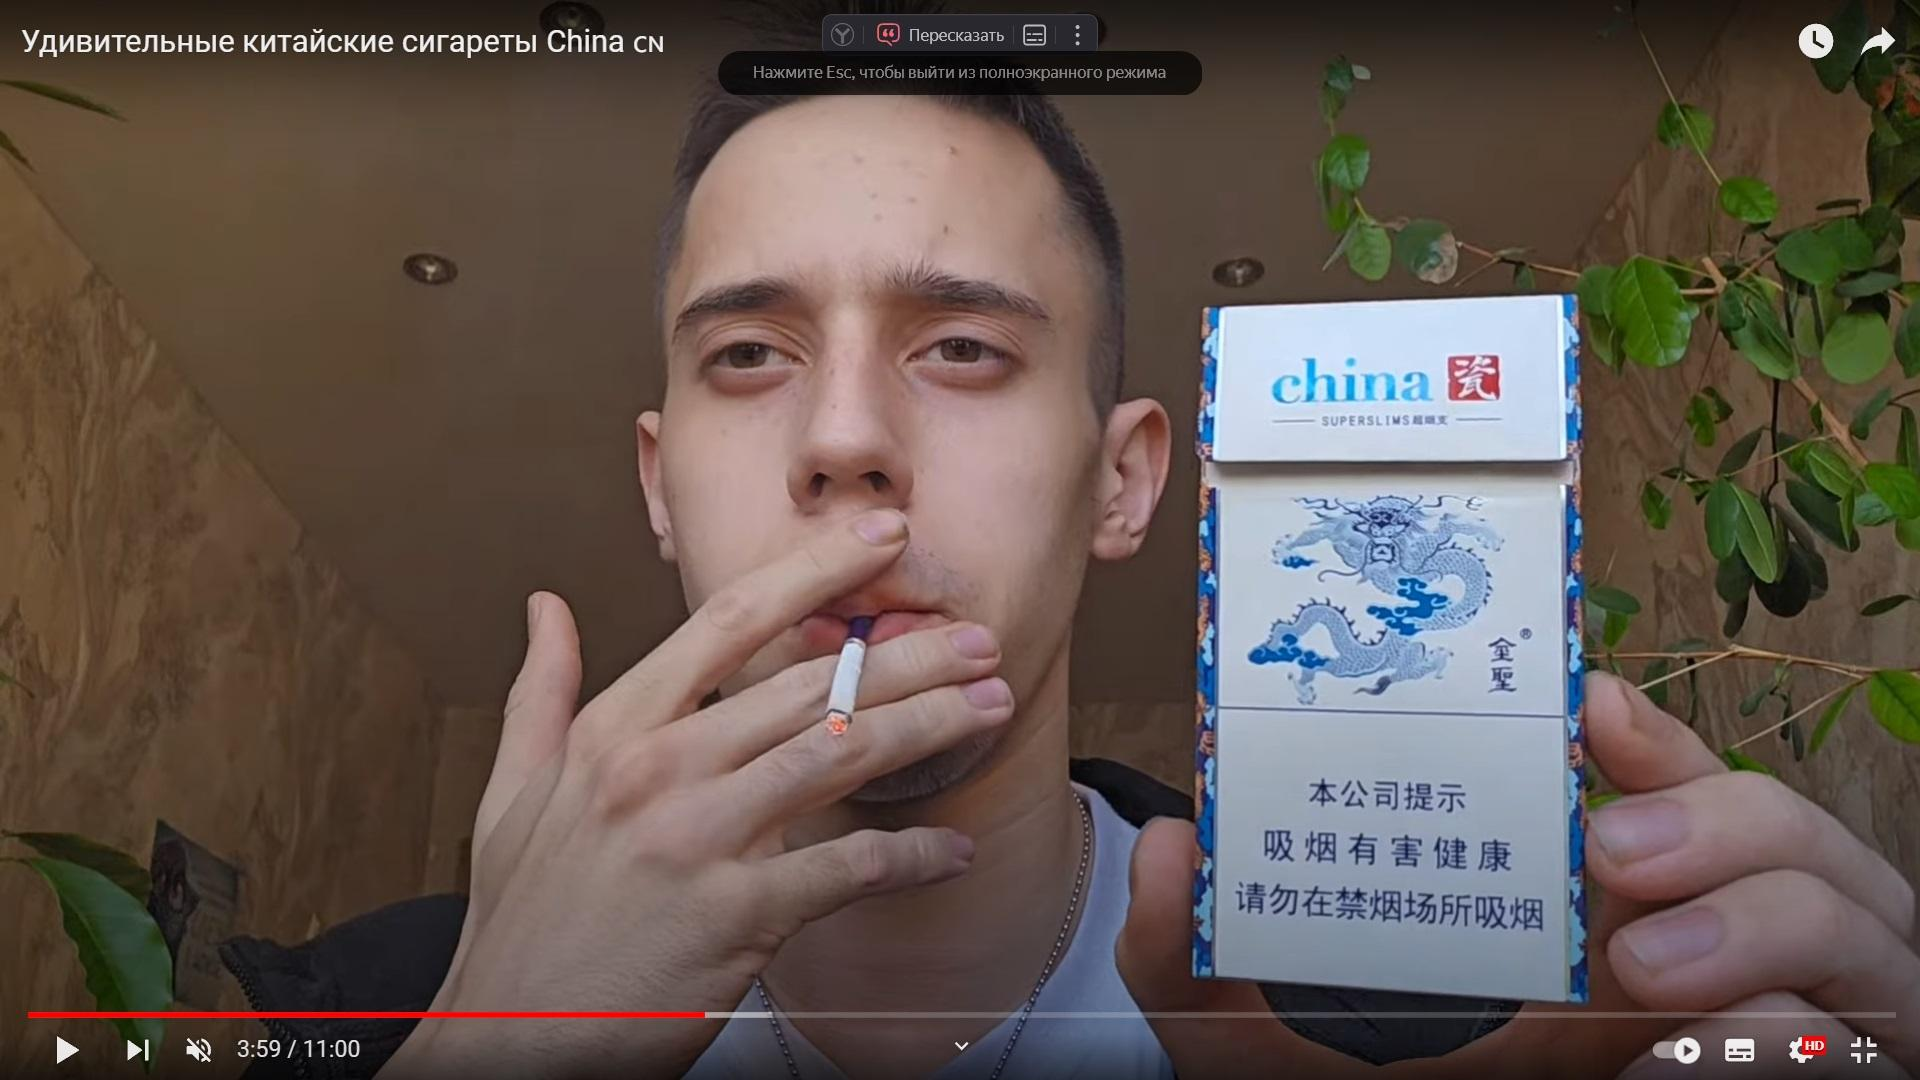cigarette: (824, 613, 874, 738)
